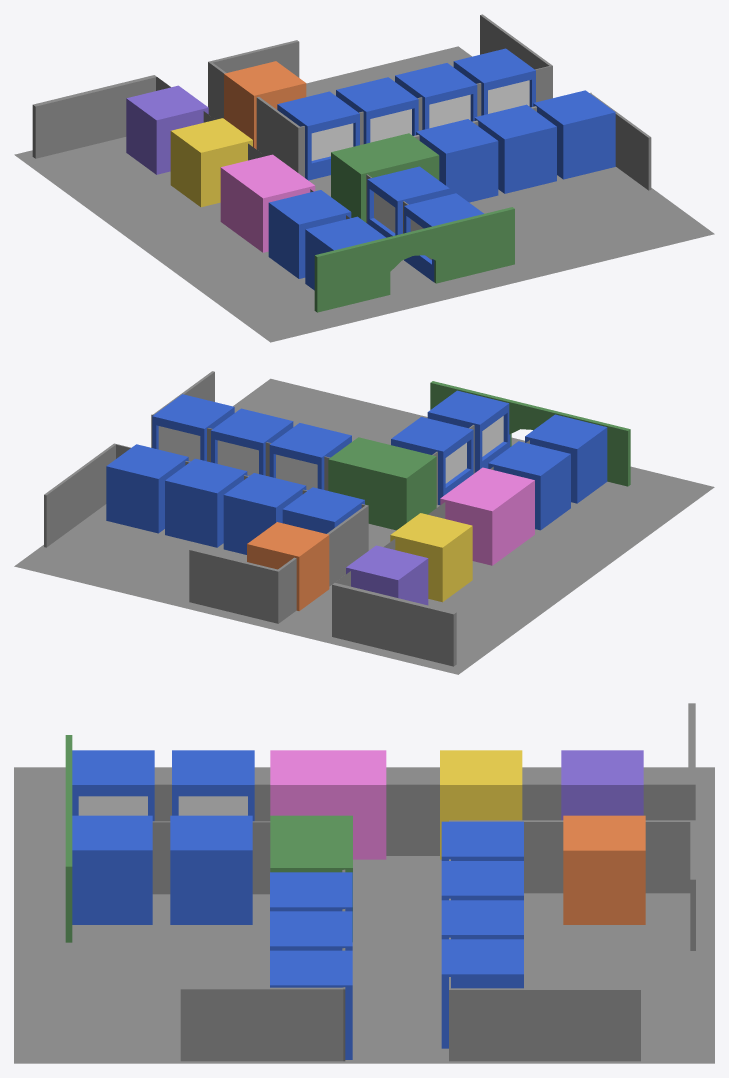
Rendered from Plaza_v1.fbx.
The picture shows the model from 3 angles, top to bottom: view 1: azimuth 30°, elevation 25°; view 2: azimuth 150°, elevation 25°; view 3: azimuth 270°, elevation 25°; orthographic projection. The views are drawn at different scales.
Parts seen in each view (by area): view 1: Plaza; view 2: Plaza; view 3: Plaza.
Boxes of the visible parts, <box> form: Plaza: <box>14,14,714,342</box>; Plaza: <box>14,371,714,674</box>; Plaza: <box>14,703,714,1063</box>.
Bounding box in the file's own units: 3402 × 409 × 3402.
